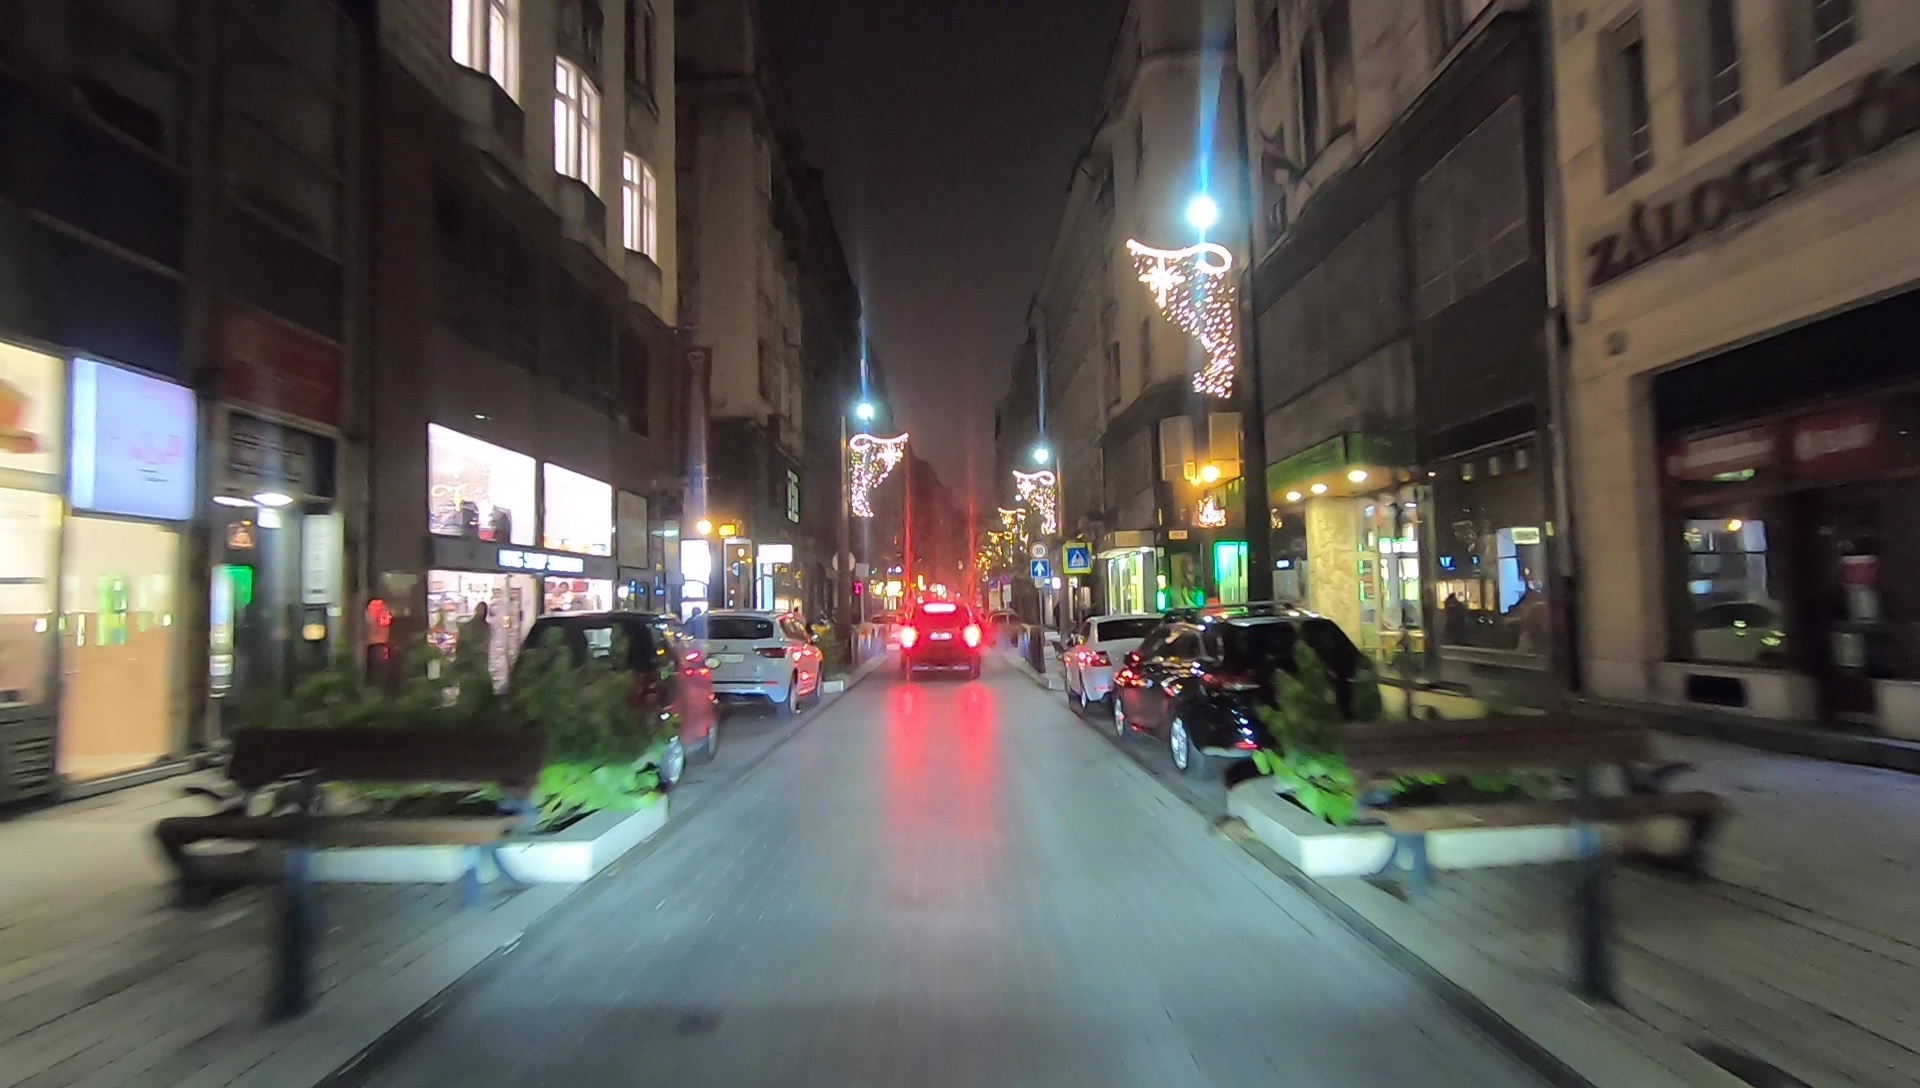person: (457, 600, 497, 738)
